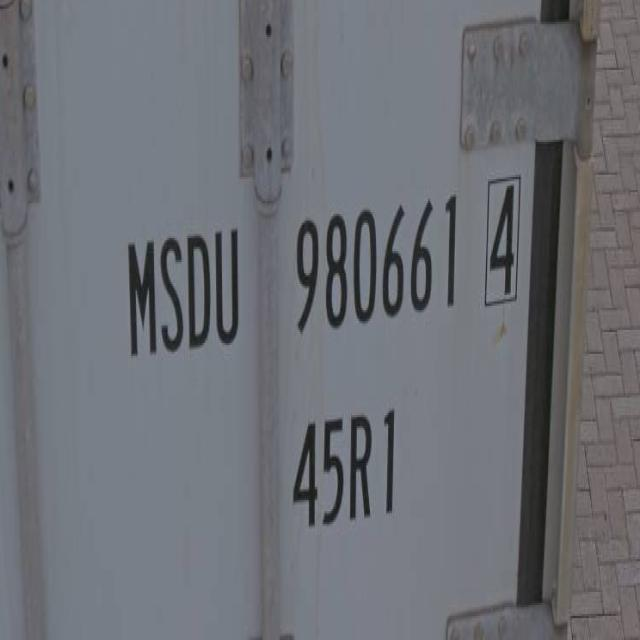dv: (481, 163, 526, 318)
owner: (120, 204, 247, 366)
serial: (289, 161, 459, 345)
size: (289, 386, 405, 550)
